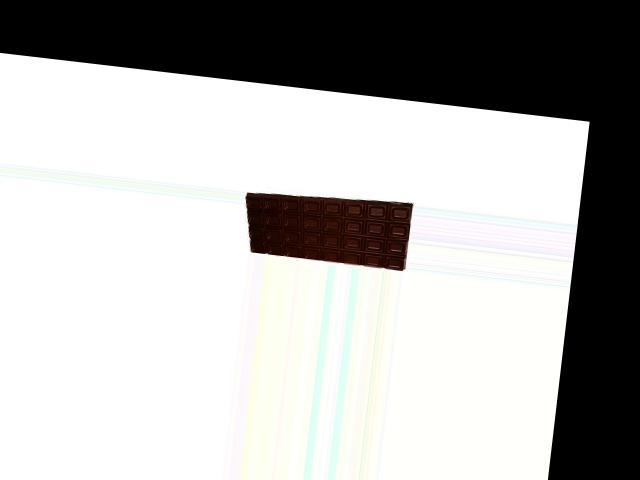chocolate: (237, 186, 414, 271)
